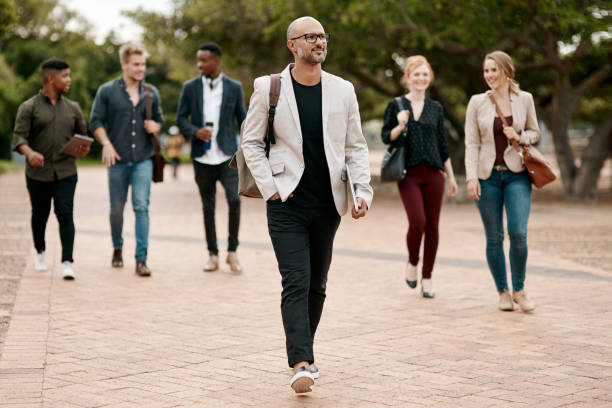face: (283, 15, 332, 67), (478, 49, 517, 98), (398, 52, 436, 93), (38, 57, 72, 97), (117, 42, 149, 83), (195, 42, 224, 78)
